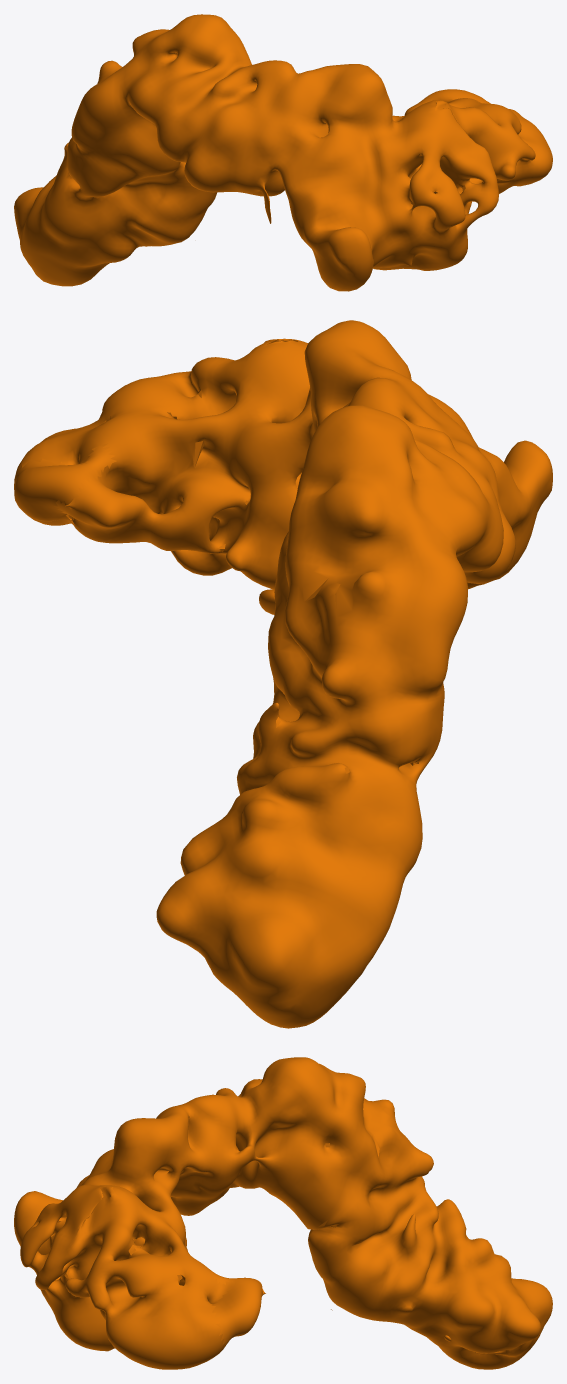
Rendered from Pancreas.obj.
The picture shows the model from 3 angles, top to bottom: view 1: azimuth 30°, elevation 25°; view 2: azimuth 150°, elevation 25°; view 3: azimuth 270°, elevation 25°; orthographic projection. The views are drawn at different scales.
Visible parts, largest first — view 1: Pancreas; view 2: Pancreas; view 3: Pancreas.
Boxes of the visible parts, box(x1,y1,x2,y2) form: Pancreas: box(14, 14, 552, 291); Pancreas: box(14, 320, 552, 1028); Pancreas: box(14, 1057, 552, 1369).
Size of the model in its own units: 3.86 by 3.17 by 4.66.
